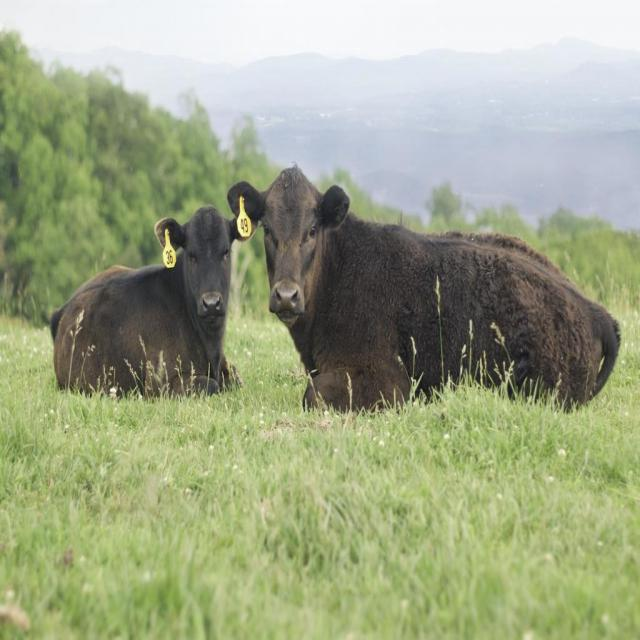Cattle: (228, 164, 624, 420), (50, 205, 259, 399)
